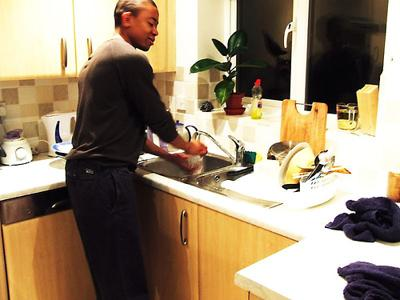person: (62, 1, 209, 300)
